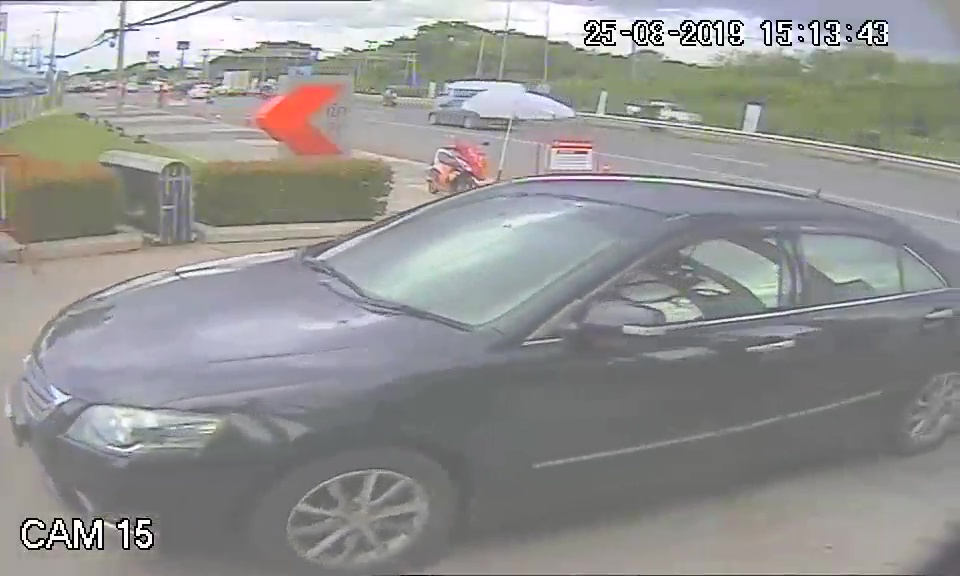sedan: (10, 170, 740, 553)
